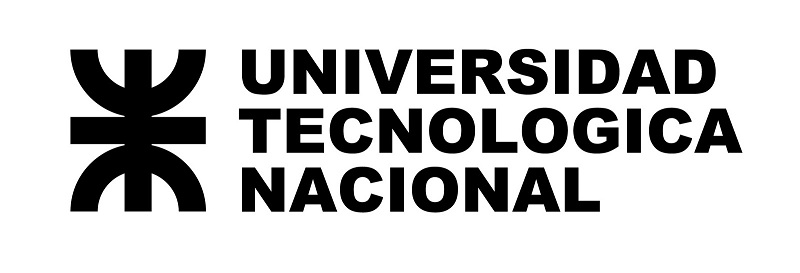utn: (63, 45, 211, 218)
